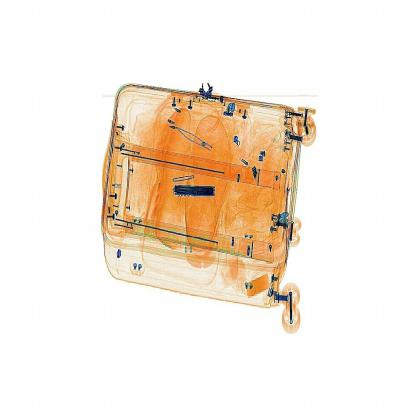scissors: (171, 179, 218, 199)
